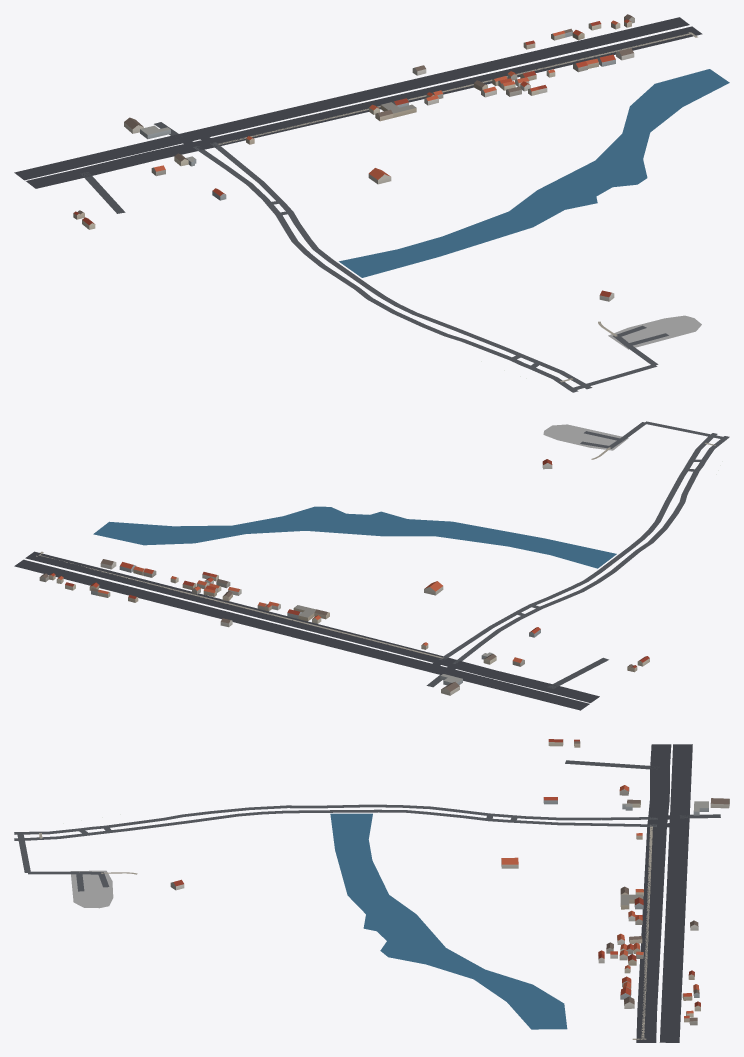
The picture shows the model from 3 angles, top to bottom: view 1: azimuth 30°, elevation 25°; view 2: azimuth 150°, elevation 25°; view 3: azimuth 270°, elevation 25°; orthographic projection. The views are drawn at different scales.
Visible parts, largest first — view 1: roads, water, buildings_walls, buildings_roofs, landuse; view 2: roads, water, buildings_walls, buildings_roofs, landuse; view 3: roads, water, buildings_roofs, buildings_walls, landuse.
Part boxes in pixels (bbox=[...]): roads: bbox=[14, 17, 702, 392]; water: bbox=[339, 69, 729, 277]; buildings_walls: bbox=[73, 17, 634, 301]; buildings_roofs: bbox=[74, 14, 633, 297]; landuse: bbox=[608, 315, 701, 349]; roads: bbox=[14, 421, 729, 710]; water: bbox=[93, 506, 616, 568]; buildings_walls: bbox=[39, 463, 649, 695]; buildings_roofs: bbox=[40, 459, 649, 691]; landuse: bbox=[543, 424, 628, 450]; roads: bbox=[14, 744, 720, 1042]; water: bbox=[330, 813, 567, 1029]; buildings_roofs: bbox=[173, 739, 729, 1021]; buildings_walls: bbox=[170, 740, 729, 1025]; landuse: bbox=[70, 870, 113, 908].
Size of the model in its own units: 502 by 6.12 by 507.
